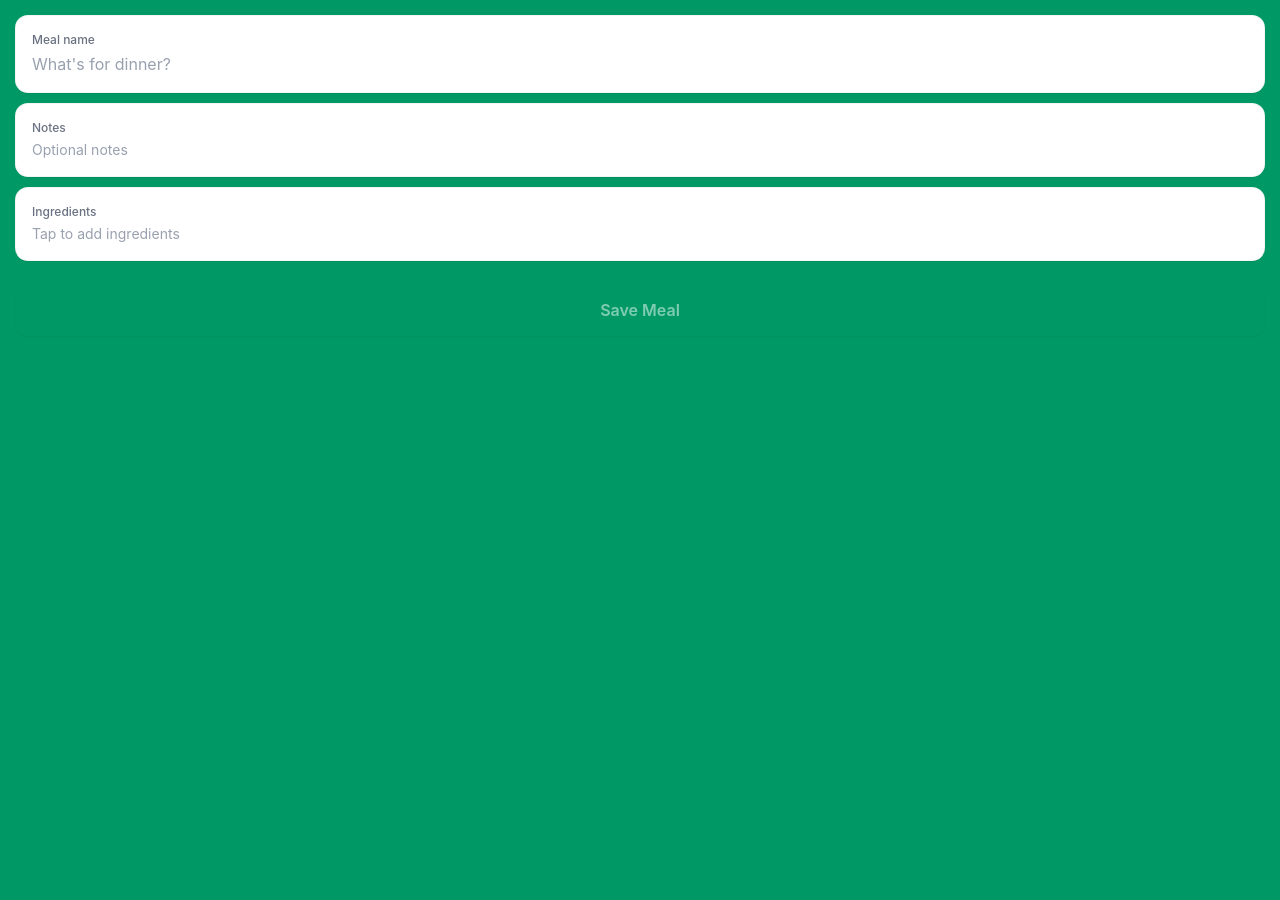
Scenario: AddMealView › opens title tray when title field is tapped
Click the button with test id "title-field".
click(63, 40)  # box [16,16,1264,92]
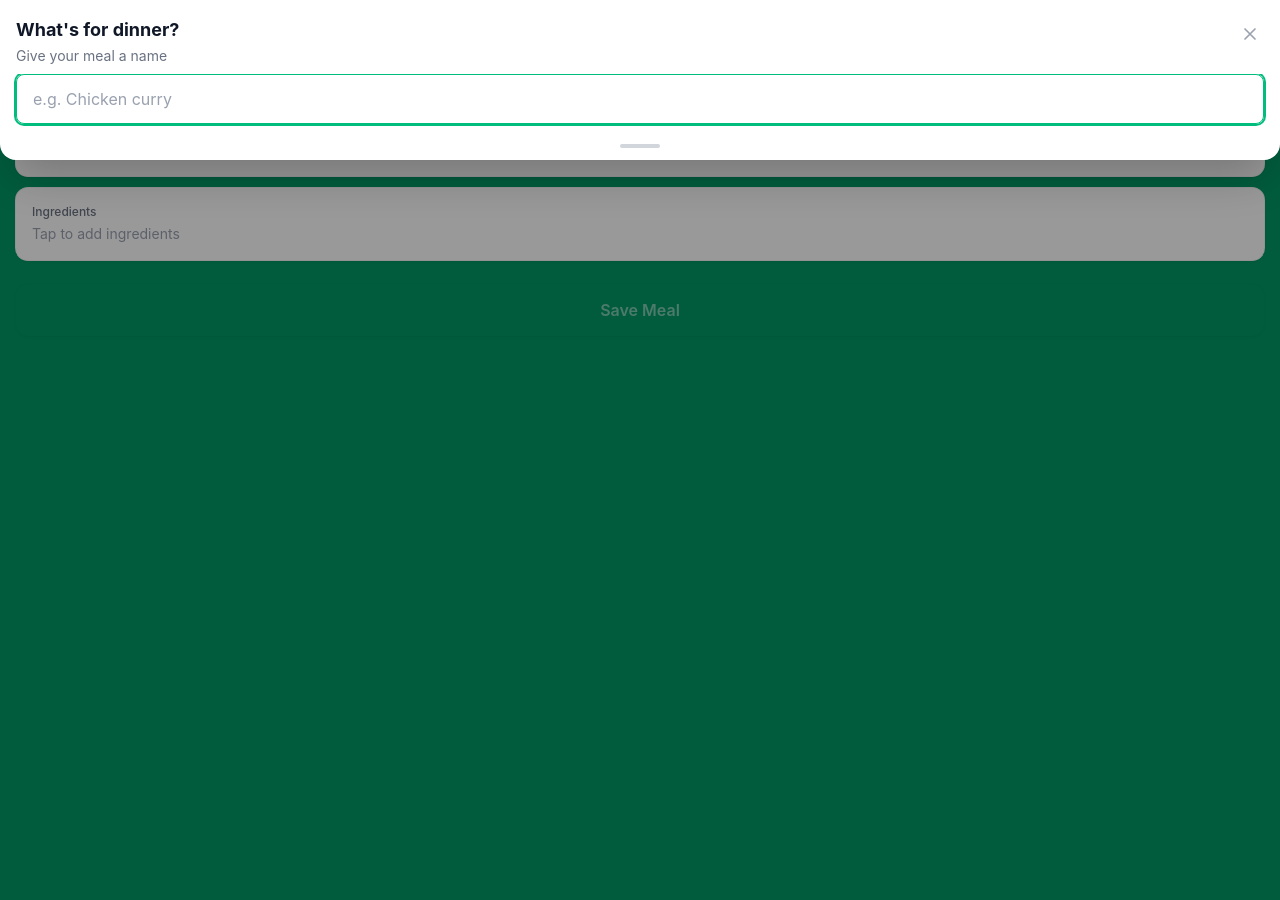
Expected: the field with test id "meal-title-input" is shown, [16,74,1264,124]
Expected: the text "Give your meal a name" is shown, [16,47,167,64]
